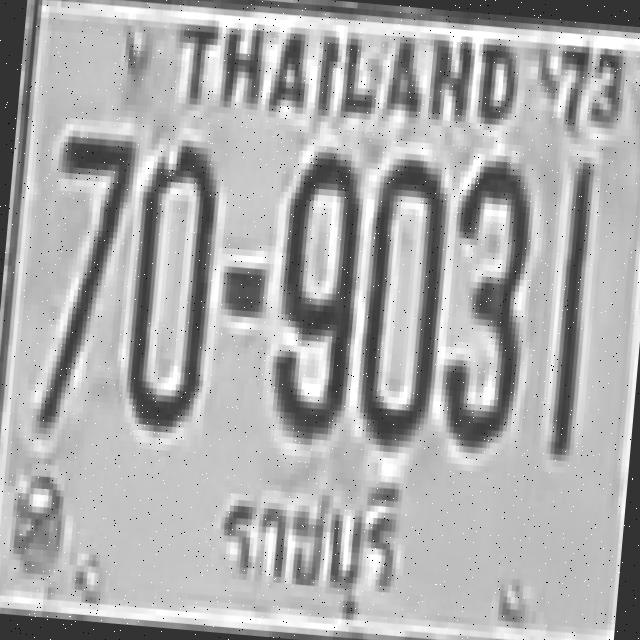0: (119, 136, 219, 428), (354, 150, 451, 442)
1: (546, 156, 594, 455)
3: (436, 155, 536, 447)
7: (36, 129, 133, 427), (43, 130, 133, 342)
9: (266, 143, 364, 435)
Ratchaburi: (213, 462, 414, 640)
